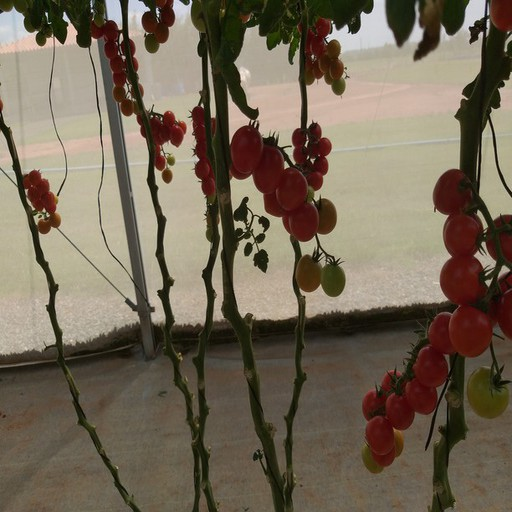mixed tomato bunch: (298, 17, 346, 97)
red tomato bunch: (433, 171, 512, 356), (364, 310, 459, 463), (228, 123, 320, 241), (92, 18, 145, 115), (192, 106, 233, 198), (139, 111, 189, 185), (19, 170, 61, 233), (293, 122, 332, 189)
